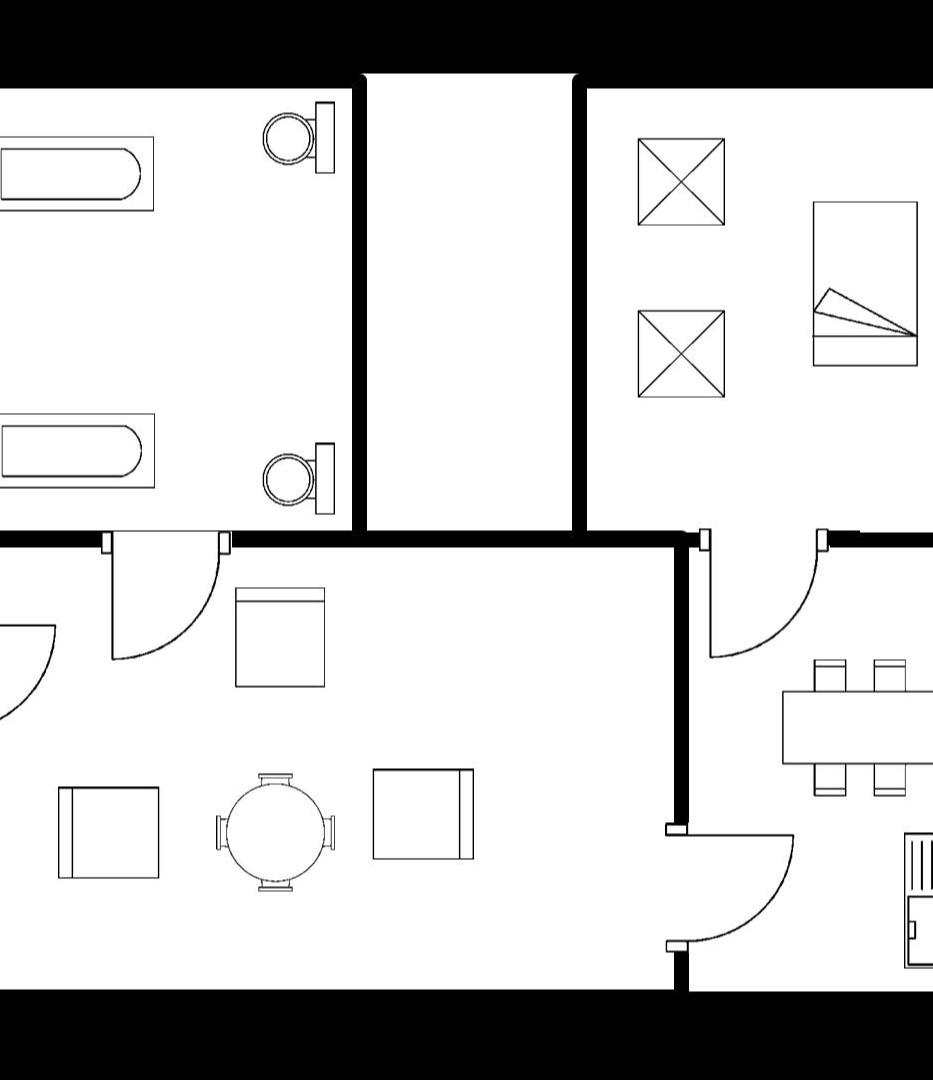bed: (800, 190, 928, 375)
dining_table: (772, 647, 933, 801)
round_table: (207, 764, 342, 900)
sink: (894, 822, 933, 974)
toilet: (254, 434, 342, 522), (258, 95, 341, 180)
tub: (0, 403, 161, 496), (0, 126, 160, 219)
